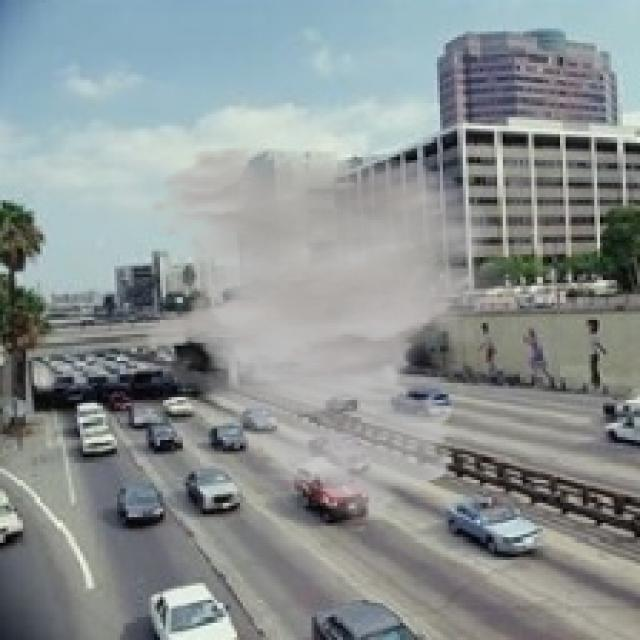smoke: (143, 146, 537, 534)
